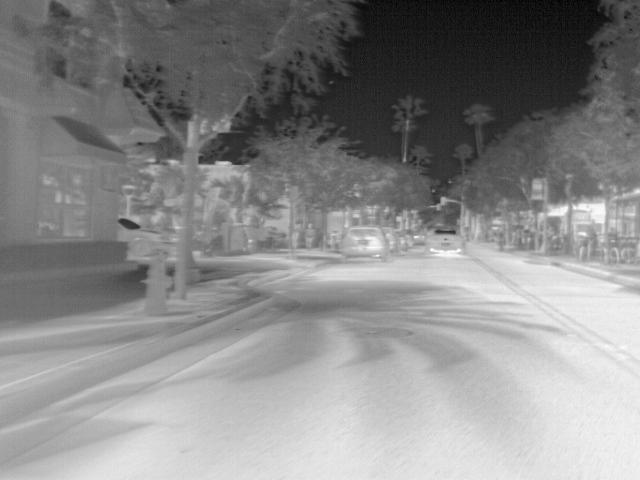car: (117, 215, 176, 256), (341, 225, 391, 263), (426, 226, 466, 256), (388, 230, 408, 250), (383, 229, 399, 253), (410, 226, 427, 246), (403, 227, 415, 248)
person: (303, 222, 318, 248), (293, 220, 306, 248), (521, 222, 534, 250), (545, 223, 557, 253), (497, 226, 509, 242)
